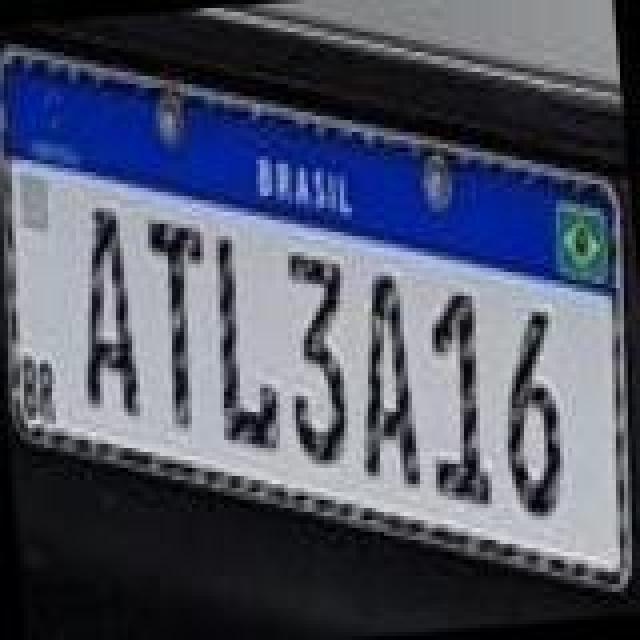1: (418, 288, 494, 512)
3: (280, 244, 360, 468)
6: (494, 308, 570, 524)
A: (70, 200, 146, 424), (346, 272, 422, 496)
L: (204, 230, 284, 458)
T: (148, 216, 220, 432)
